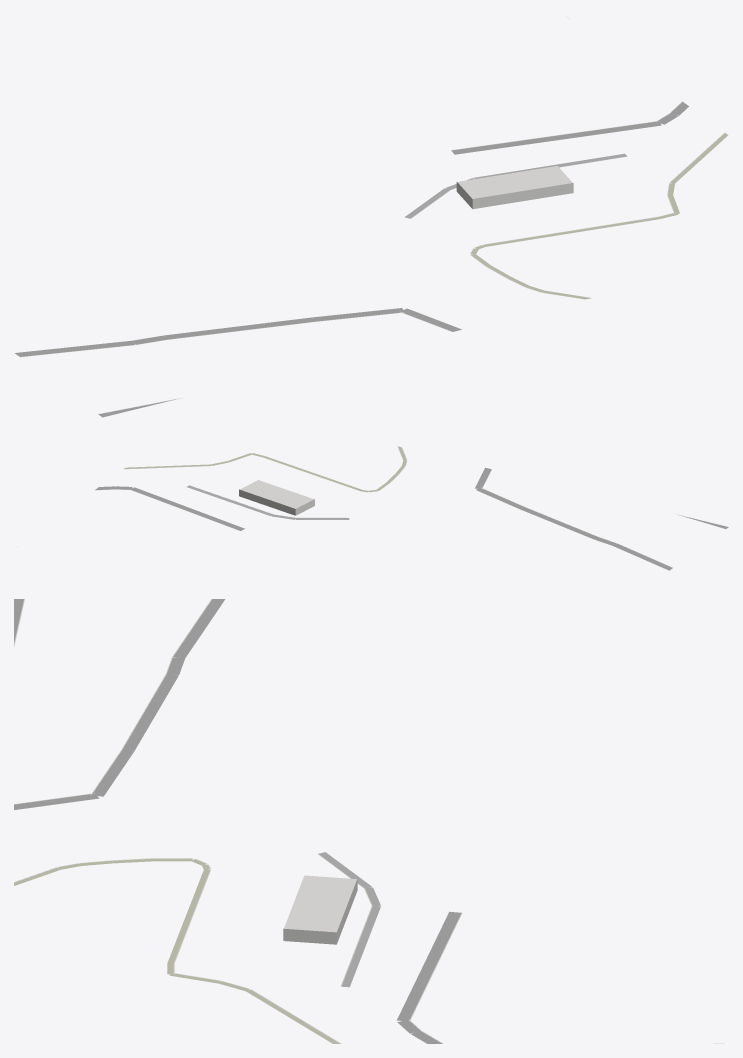
The model's file is chunk_-4_-3.glb.
The picture shows the model from 3 angles, top to bottom: view 1: azimuth 30°, elevation 25°; view 2: azimuth 150°, elevation 25°; view 3: azimuth 270°, elevation 25°; orthographic projection. The views are drawn at different scales.
Visible parts, largest first — view 1: roads_04_04_04, buildings_0816_0808_0788, roads_06_06_0467, roads_kerbs_markings, roads_0467_0467_0467; view 2: roads_04_04_04, buildings_0816_0808_0788, roads_kerbs_markings, roads_06_06_0467, roads_0467_0467_0467; view 3: roads_04_04_04, buildings_0816_0808_0788, roads_06_06_0467, roads_kerbs_markings, roads_0467_0467_0467.
Boxes of the visible parts, x1,y1,x2,y2 form: roads_04_04_04: [15, 102, 688, 417]; buildings_0816_0808_0788: [456, 166, 573, 209]; roads_06_06_0467: [471, 133, 728, 299]; roads_kerbs_markings: [20, 17, 724, 414]; roads_0467_0467_0467: [405, 153, 626, 218]; roads_04_04_04: [95, 467, 728, 570]; buildings_0816_0808_0788: [239, 480, 314, 515]; roads_kerbs_markings: [16, 447, 725, 567]; roads_06_06_0467: [124, 446, 406, 492]; roads_0467_0467_0467: [187, 485, 349, 519]; roads_04_04_04: [14, 599, 461, 1043]; buildings_0816_0808_0788: [283, 875, 357, 944]; roads_06_06_0467: [14, 858, 340, 1043]; roads_kerbs_markings: [14, 599, 724, 1043]; roads_0467_0467_0467: [318, 852, 380, 987].
Bounding box in the file's own units: 500 × 6.45 × 340.
